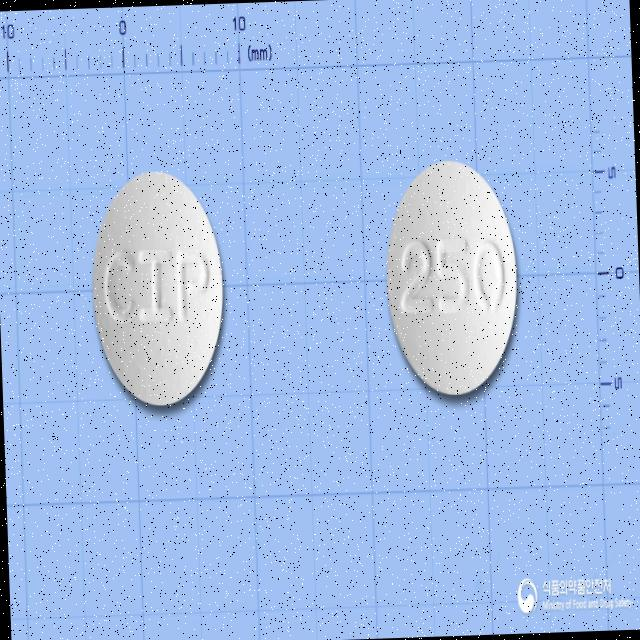Ciprocin: (378, 150, 528, 408), (85, 164, 234, 414)
